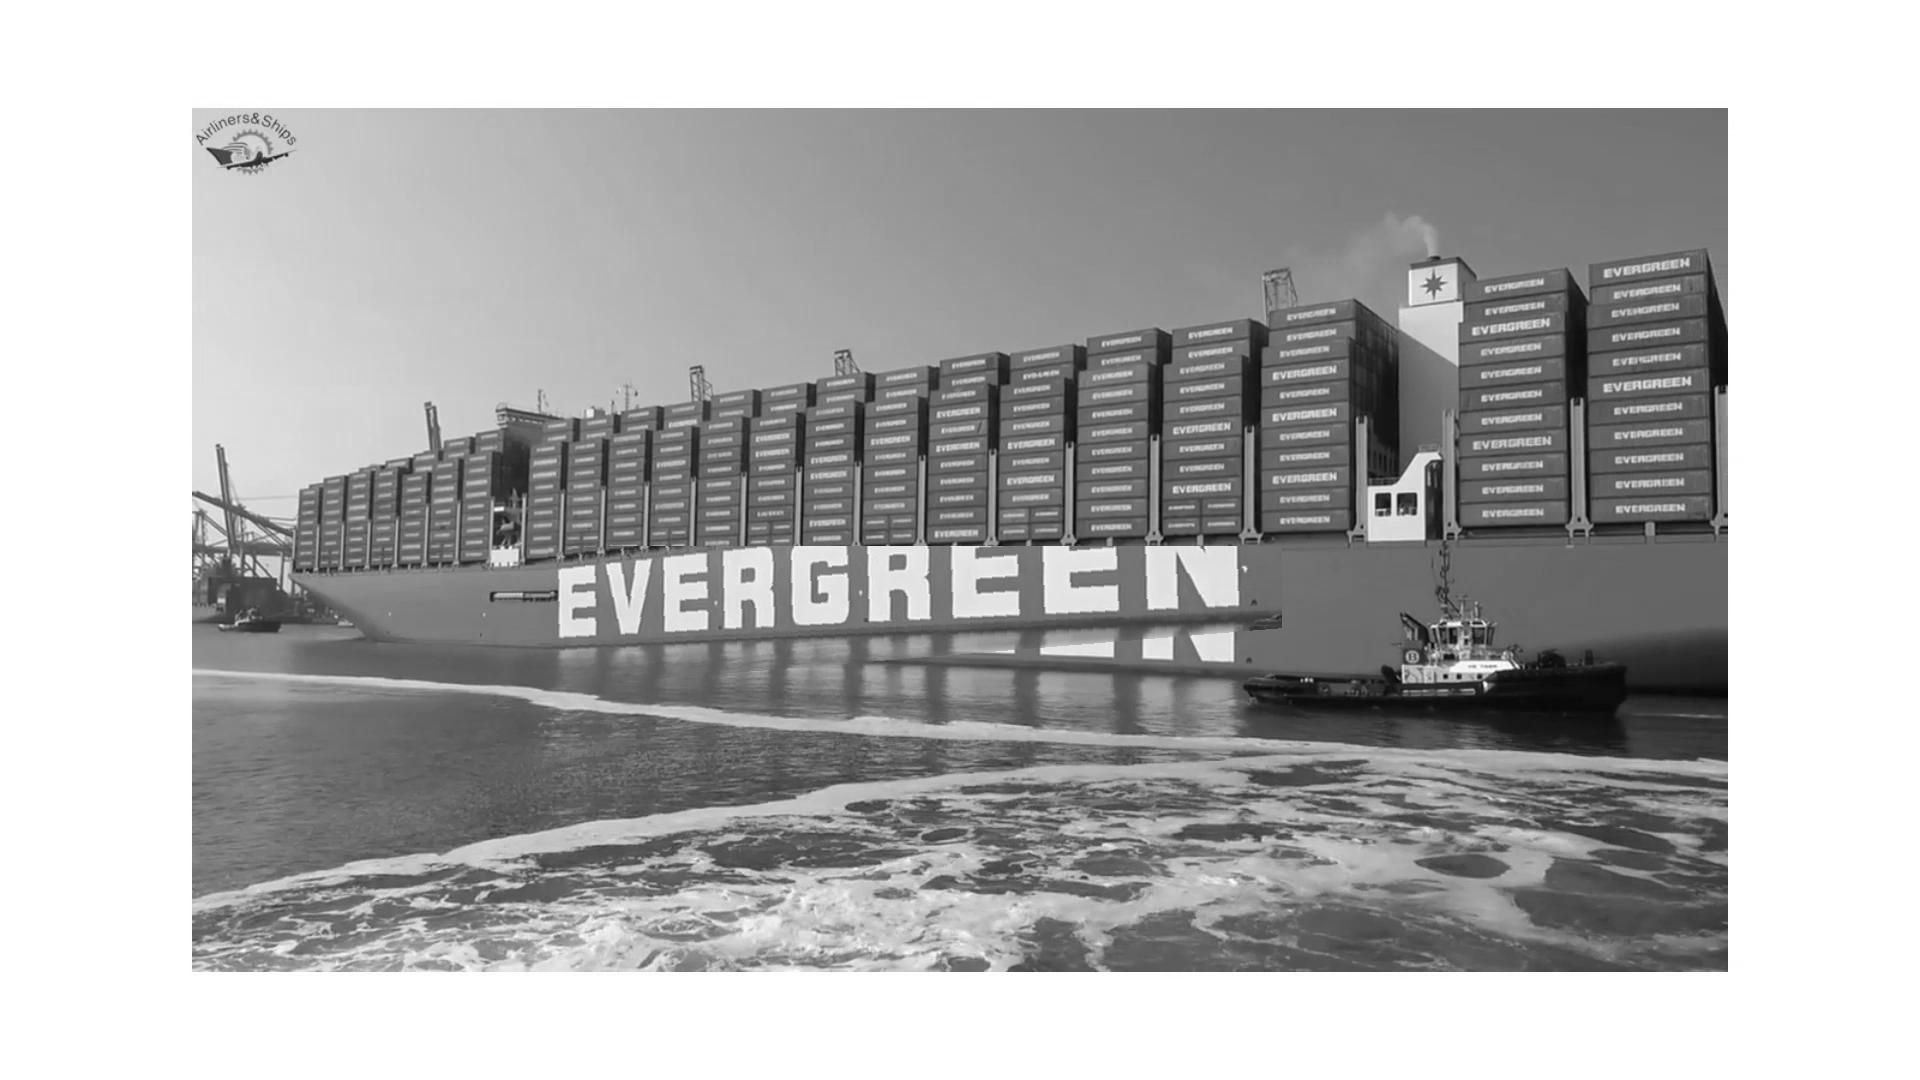OCR: (541, 546, 1282, 688)
